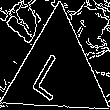L_NE: (33, 42, 81, 101)
